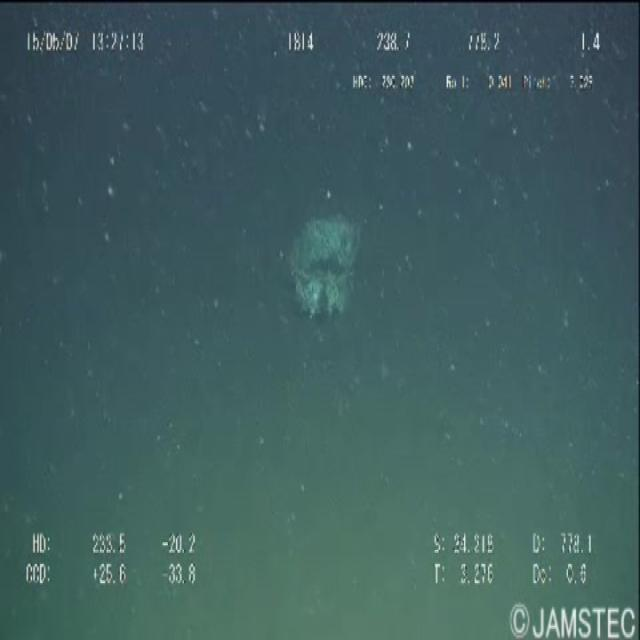Litter: (288, 190, 366, 346)
